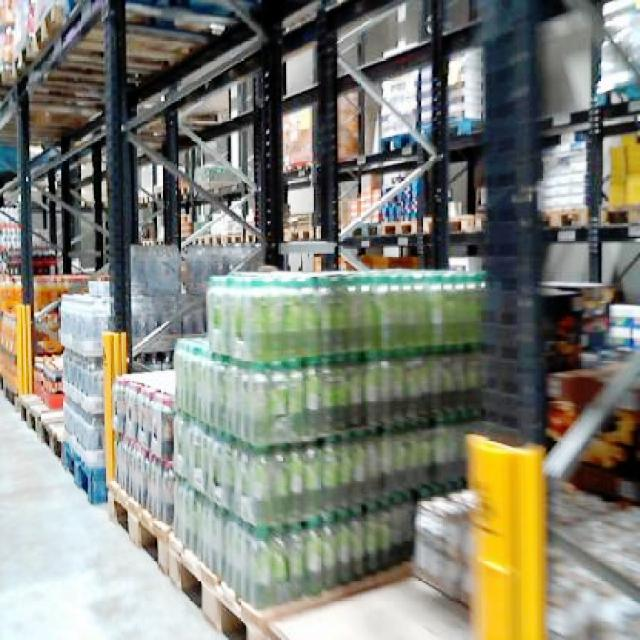ground: (0, 369, 638, 638)
pallet: (105, 265, 500, 638), (543, 355, 638, 514), (0, 269, 92, 402)
